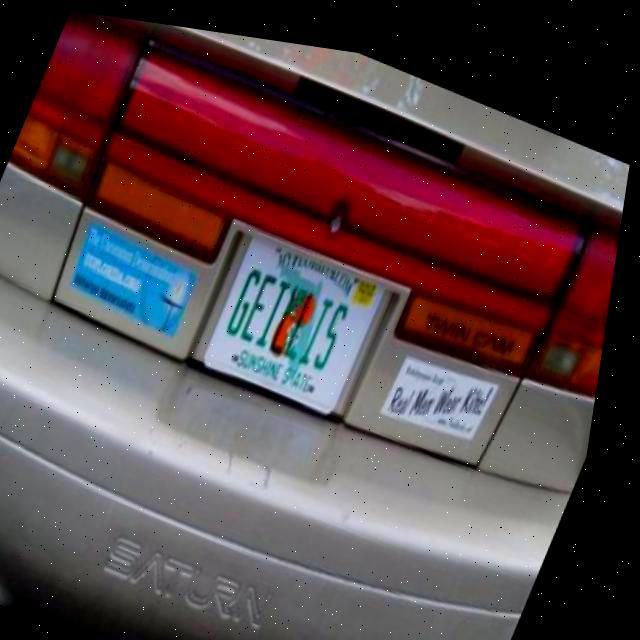license_plate: (206, 220, 397, 410)
